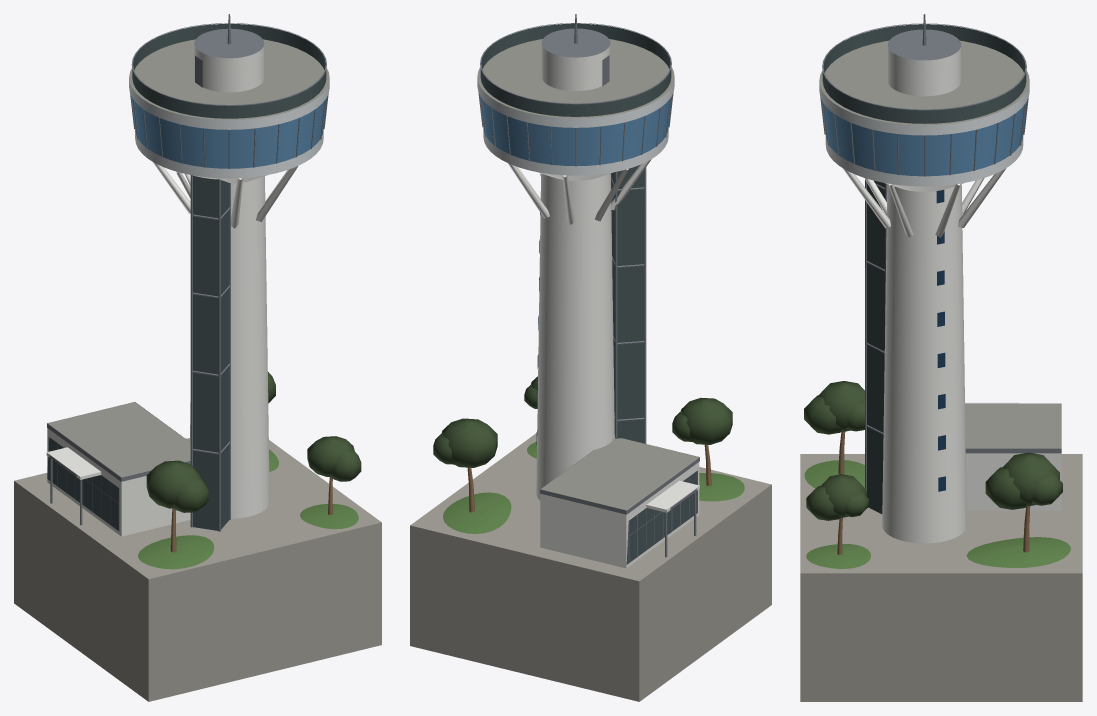
The model's file is top-prebuilt.fbx.
The picture shows the model from 3 angles, left to right: view 1: azimuth 30°, elevation 25°; view 2: azimuth 150°, elevation 25°; view 3: azimuth 270°, elevation 25°; orthographic projection. The views are drawn at different scales.
Visible parts, largest first — view 1: a1067/0/top-prebuilt; view 2: a1067/0/top-prebuilt; view 3: a1067/0/top-prebuilt.
Part boxes in pixels (x1,y1,x2,y2): a1067/0/top-prebuilt: (14, 14, 381, 701); a1067/0/top-prebuilt: (410, 14, 771, 701); a1067/0/top-prebuilt: (800, 14, 1082, 701).
Bounding box in the file's own units: 20 × 50 × 20.
